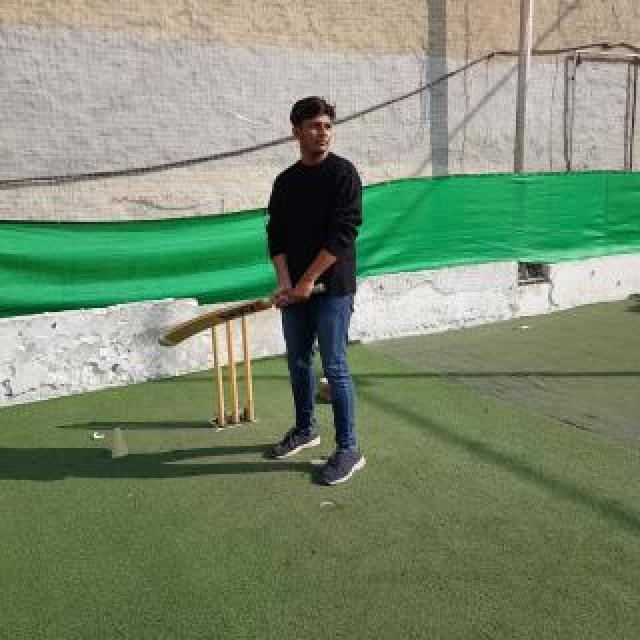bat: (158, 282, 326, 348)
